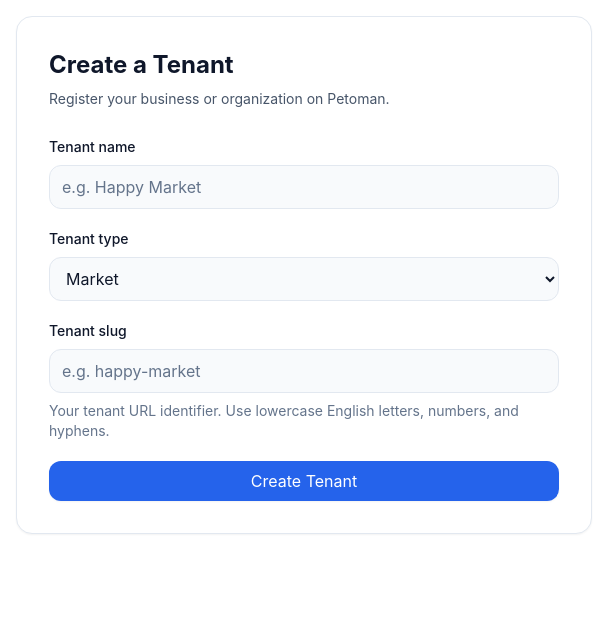
it: CreateTenantPage › displays an unexpected error for non-Axios failures
The image size is (609, 617).
Type "Happy Market" into the field labelled "Tenant name".
click(304, 187); type("Happy Market")  # box [49,165,559,209]
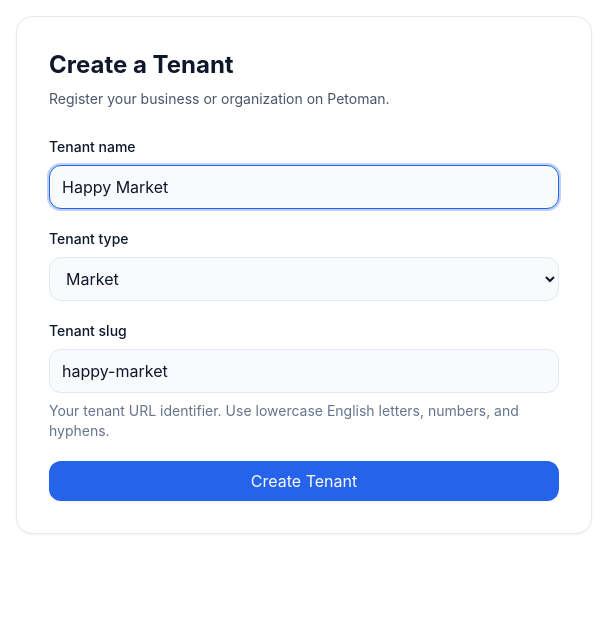
Click the button "Create Tenant".
click(304, 481)  # box [49,461,559,501]
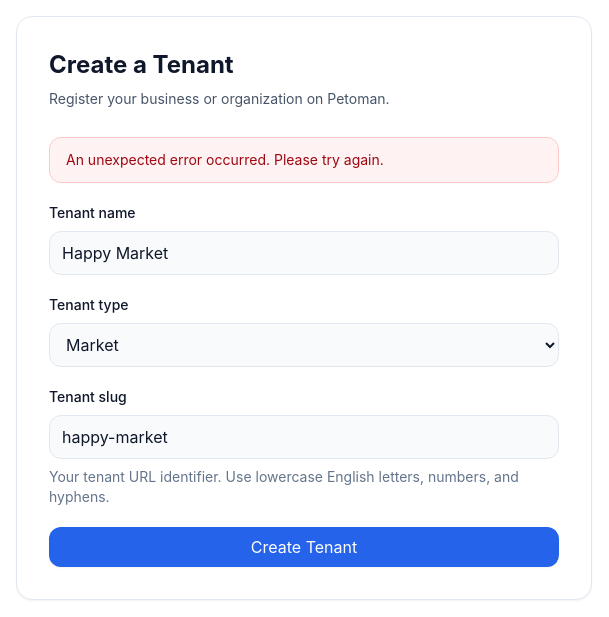
Check: the text "An unexpected error occurred. Please try again." is shown, box [66,151,384,168]
